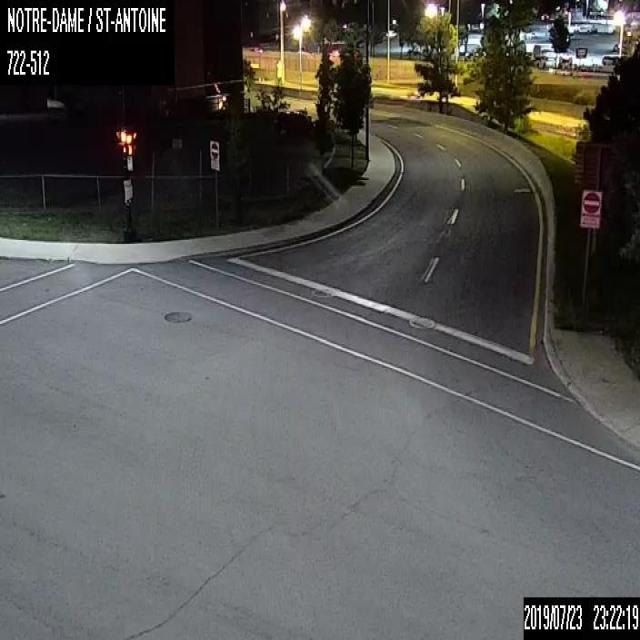vehicle: (272, 110, 314, 134)
